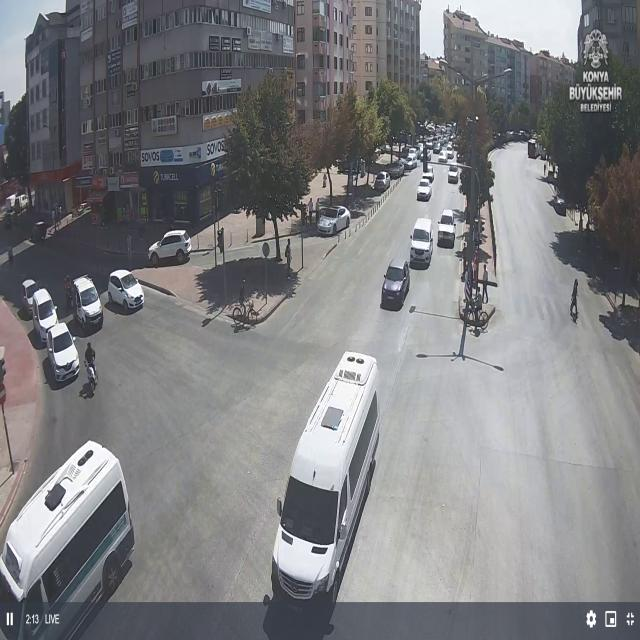Car: (370, 260, 419, 312), (45, 323, 80, 381), (108, 269, 147, 311), (30, 289, 59, 344), (148, 230, 192, 266), (317, 205, 351, 235), (437, 209, 456, 246), (416, 177, 434, 203), (387, 160, 405, 181), (374, 172, 391, 194), (445, 164, 464, 182), (403, 154, 417, 170), (421, 164, 435, 180), (446, 144, 458, 160), (436, 150, 449, 164)
Cycle: (227, 280, 262, 331), (458, 293, 492, 337), (82, 341, 99, 400)
Van: (250, 344, 410, 634), (0, 438, 150, 640), (69, 276, 103, 328), (409, 218, 433, 265), (528, 139, 538, 159)
